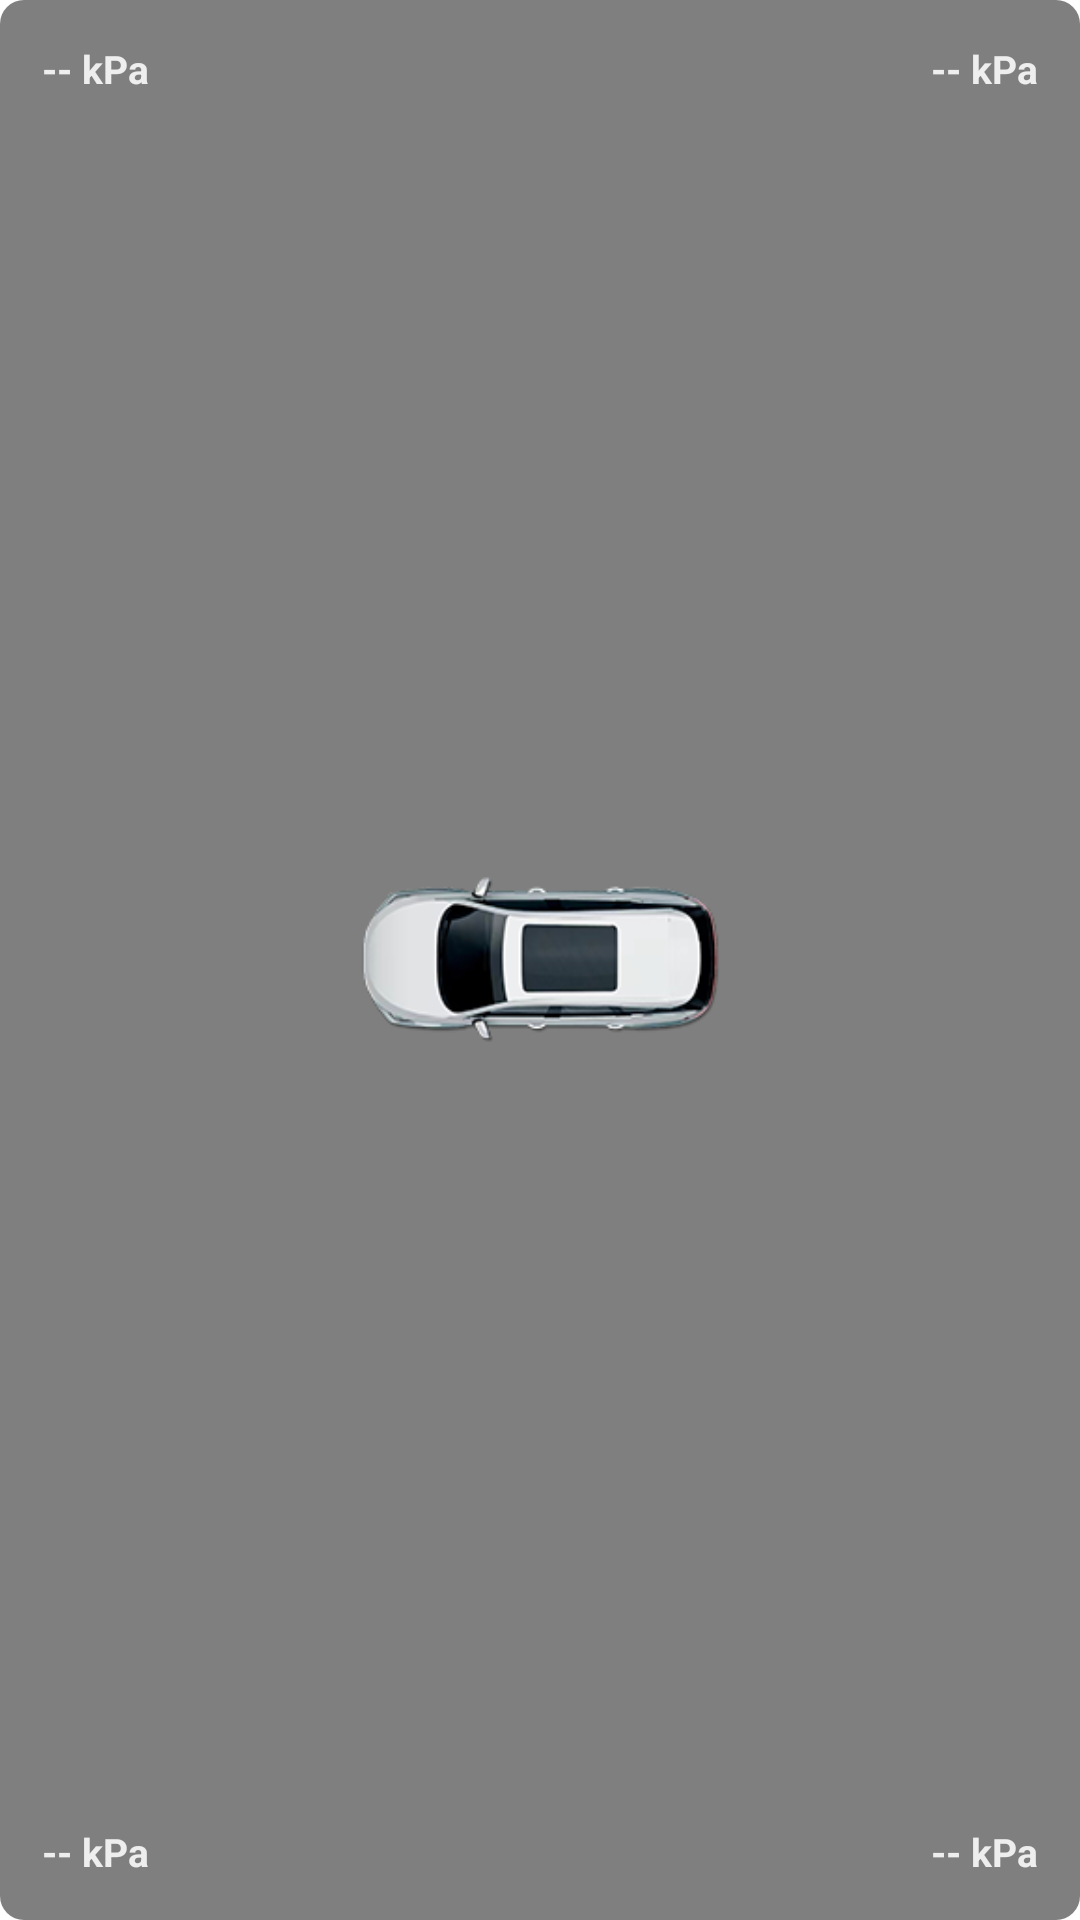

Locate icon controls on the screen. Image size 1080x1920, boxes as BBox(x1, y1, x2, y2).
widget car ty: BBox(363, 878, 718, 1040)
